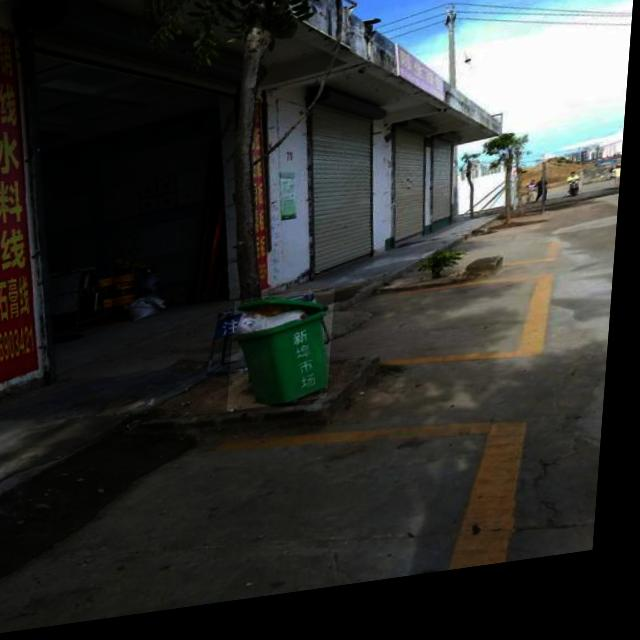overflow: (234, 297, 340, 419)
